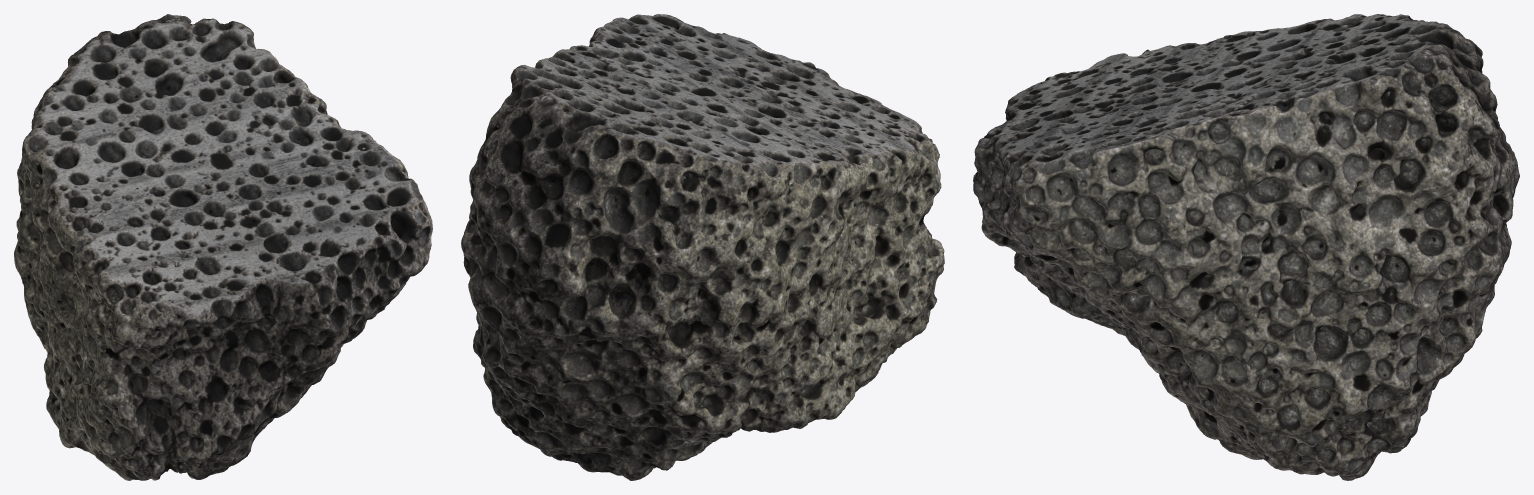
The model's file is 15016-0_SFM_Web-Resolution-Model_Coordinate-Registered.obj.
3 views of the same model, side by side, from view 1: azimuth 30°, elevation 25°; view 2: azimuth 150°, elevation 25°; view 3: azimuth 270°, elevation 25° (orthographic). The views are drawn at different scales.
Bounding box in the file's own units: 0.0607 × 0.0715 × 0.0821.
1 material, 1 textured.
